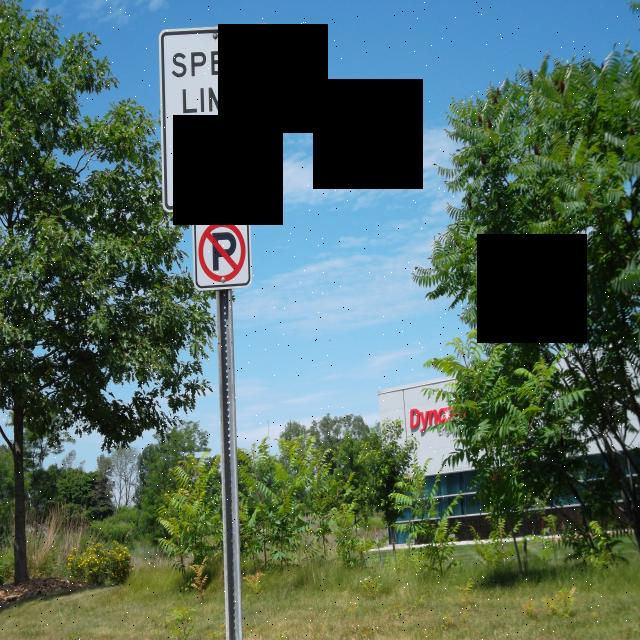regulatory: (159, 22, 277, 211), (187, 213, 253, 290)
